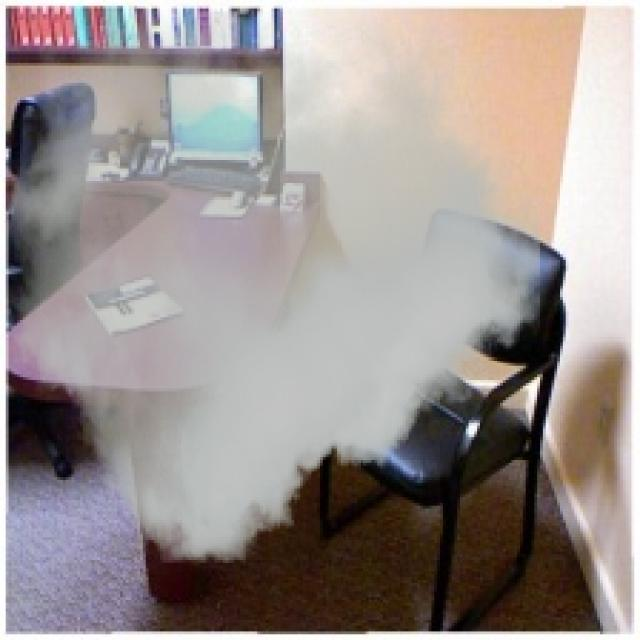smoke: (6, 11, 540, 563)
